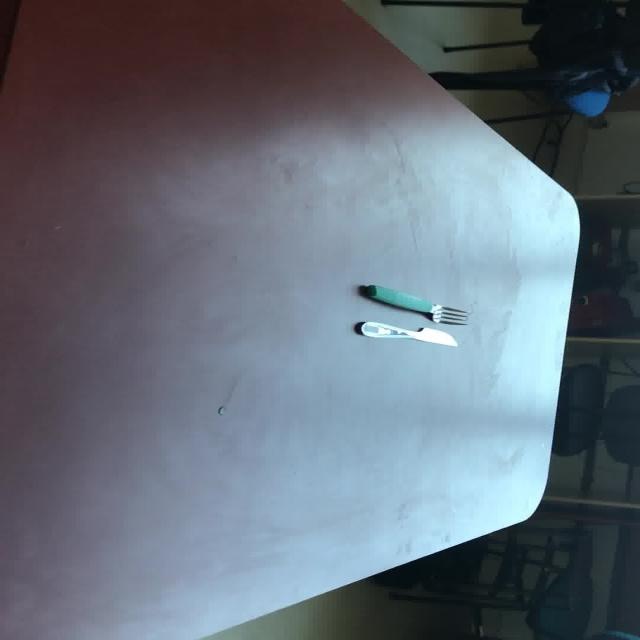fork: (358, 284, 469, 324)
knife fork: (358, 283, 469, 325), (352, 320, 457, 347)
